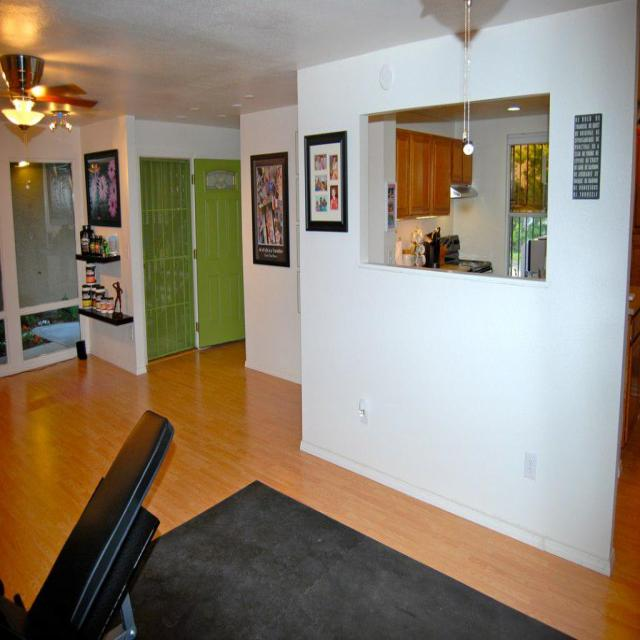Bulb: (0, 52, 98, 134)
